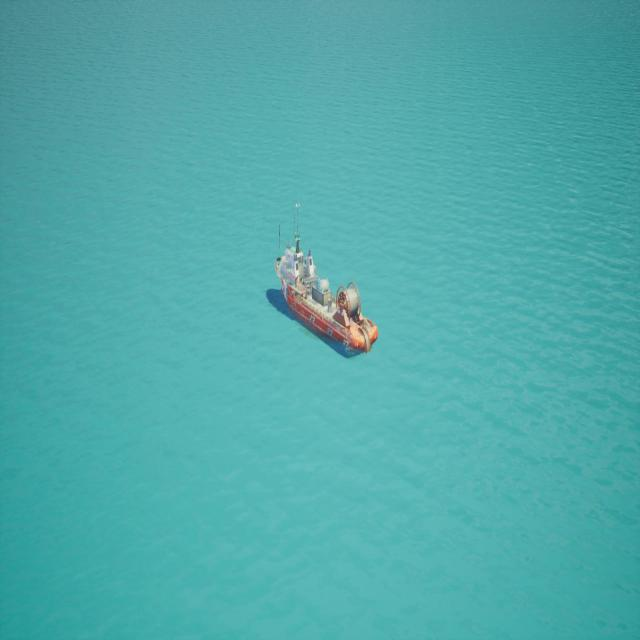tug boat: (251, 159, 384, 362)
